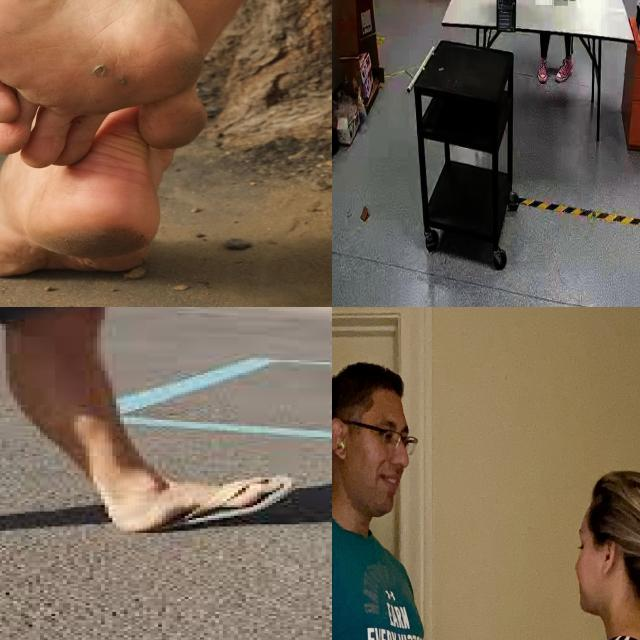Barefoots: (0, 0, 206, 169), (0, 163, 162, 277)
No_Ear-Protection: (601, 532, 618, 577)
Sandals: (94, 475, 297, 530)
shoes: (555, 54, 574, 87), (536, 57, 550, 87)
